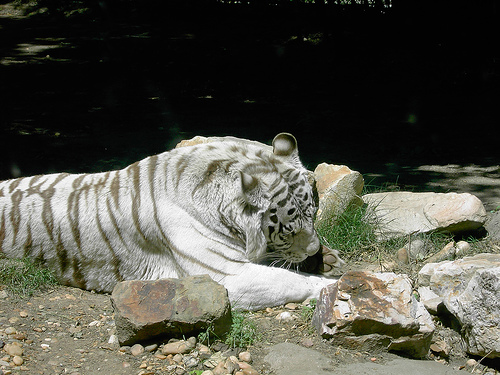Tigre: (9, 131, 326, 301)
